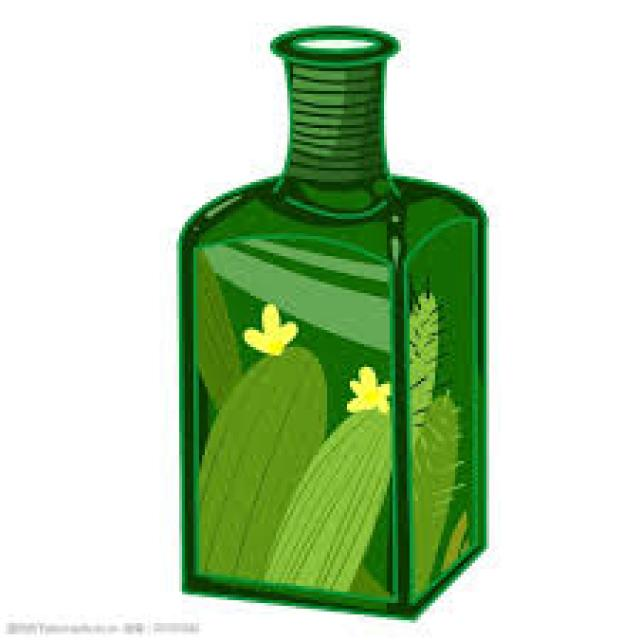glass: (174, 23, 487, 617)
